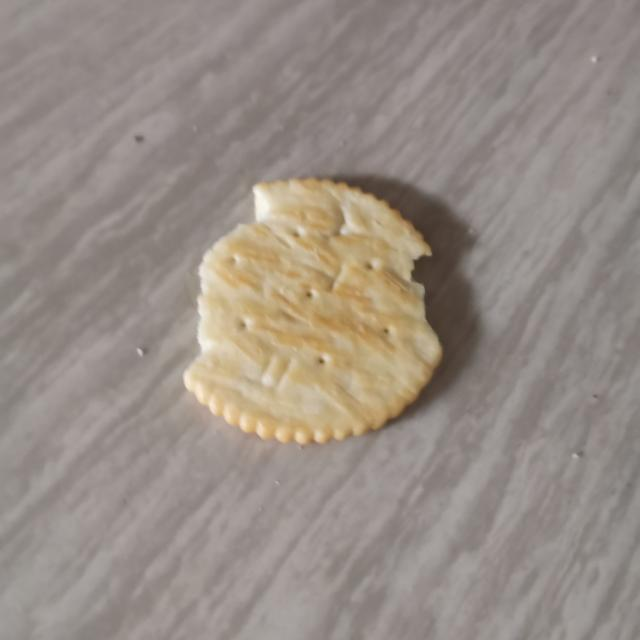Broken: (181, 175, 443, 446)
